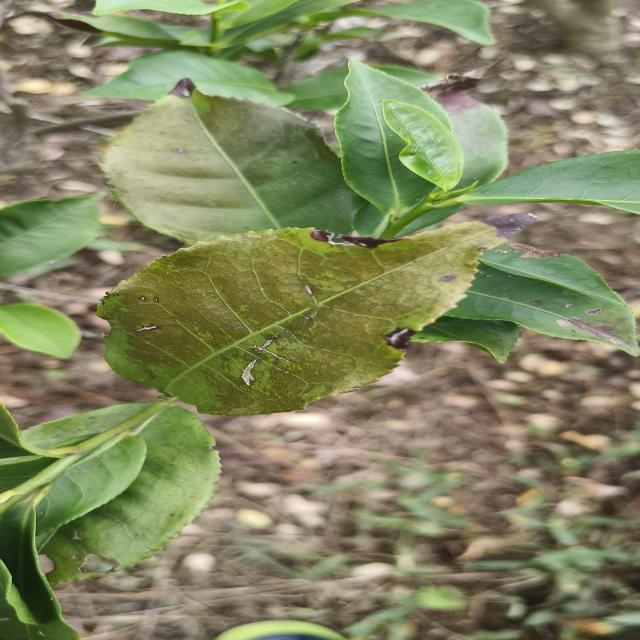Leaf: (99, 219, 507, 415), (101, 79, 360, 244), (44, 405, 221, 584), (334, 60, 451, 217), (446, 263, 638, 355), (457, 150, 640, 213), (0, 498, 79, 640), (86, 51, 289, 106), (481, 242, 626, 306), (0, 193, 103, 277), (383, 101, 463, 192), (362, 0, 494, 45), (412, 316, 521, 363), (24, 402, 151, 441), (0, 303, 81, 358), (50, 12, 178, 42), (283, 68, 348, 110), (372, 66, 437, 88)
